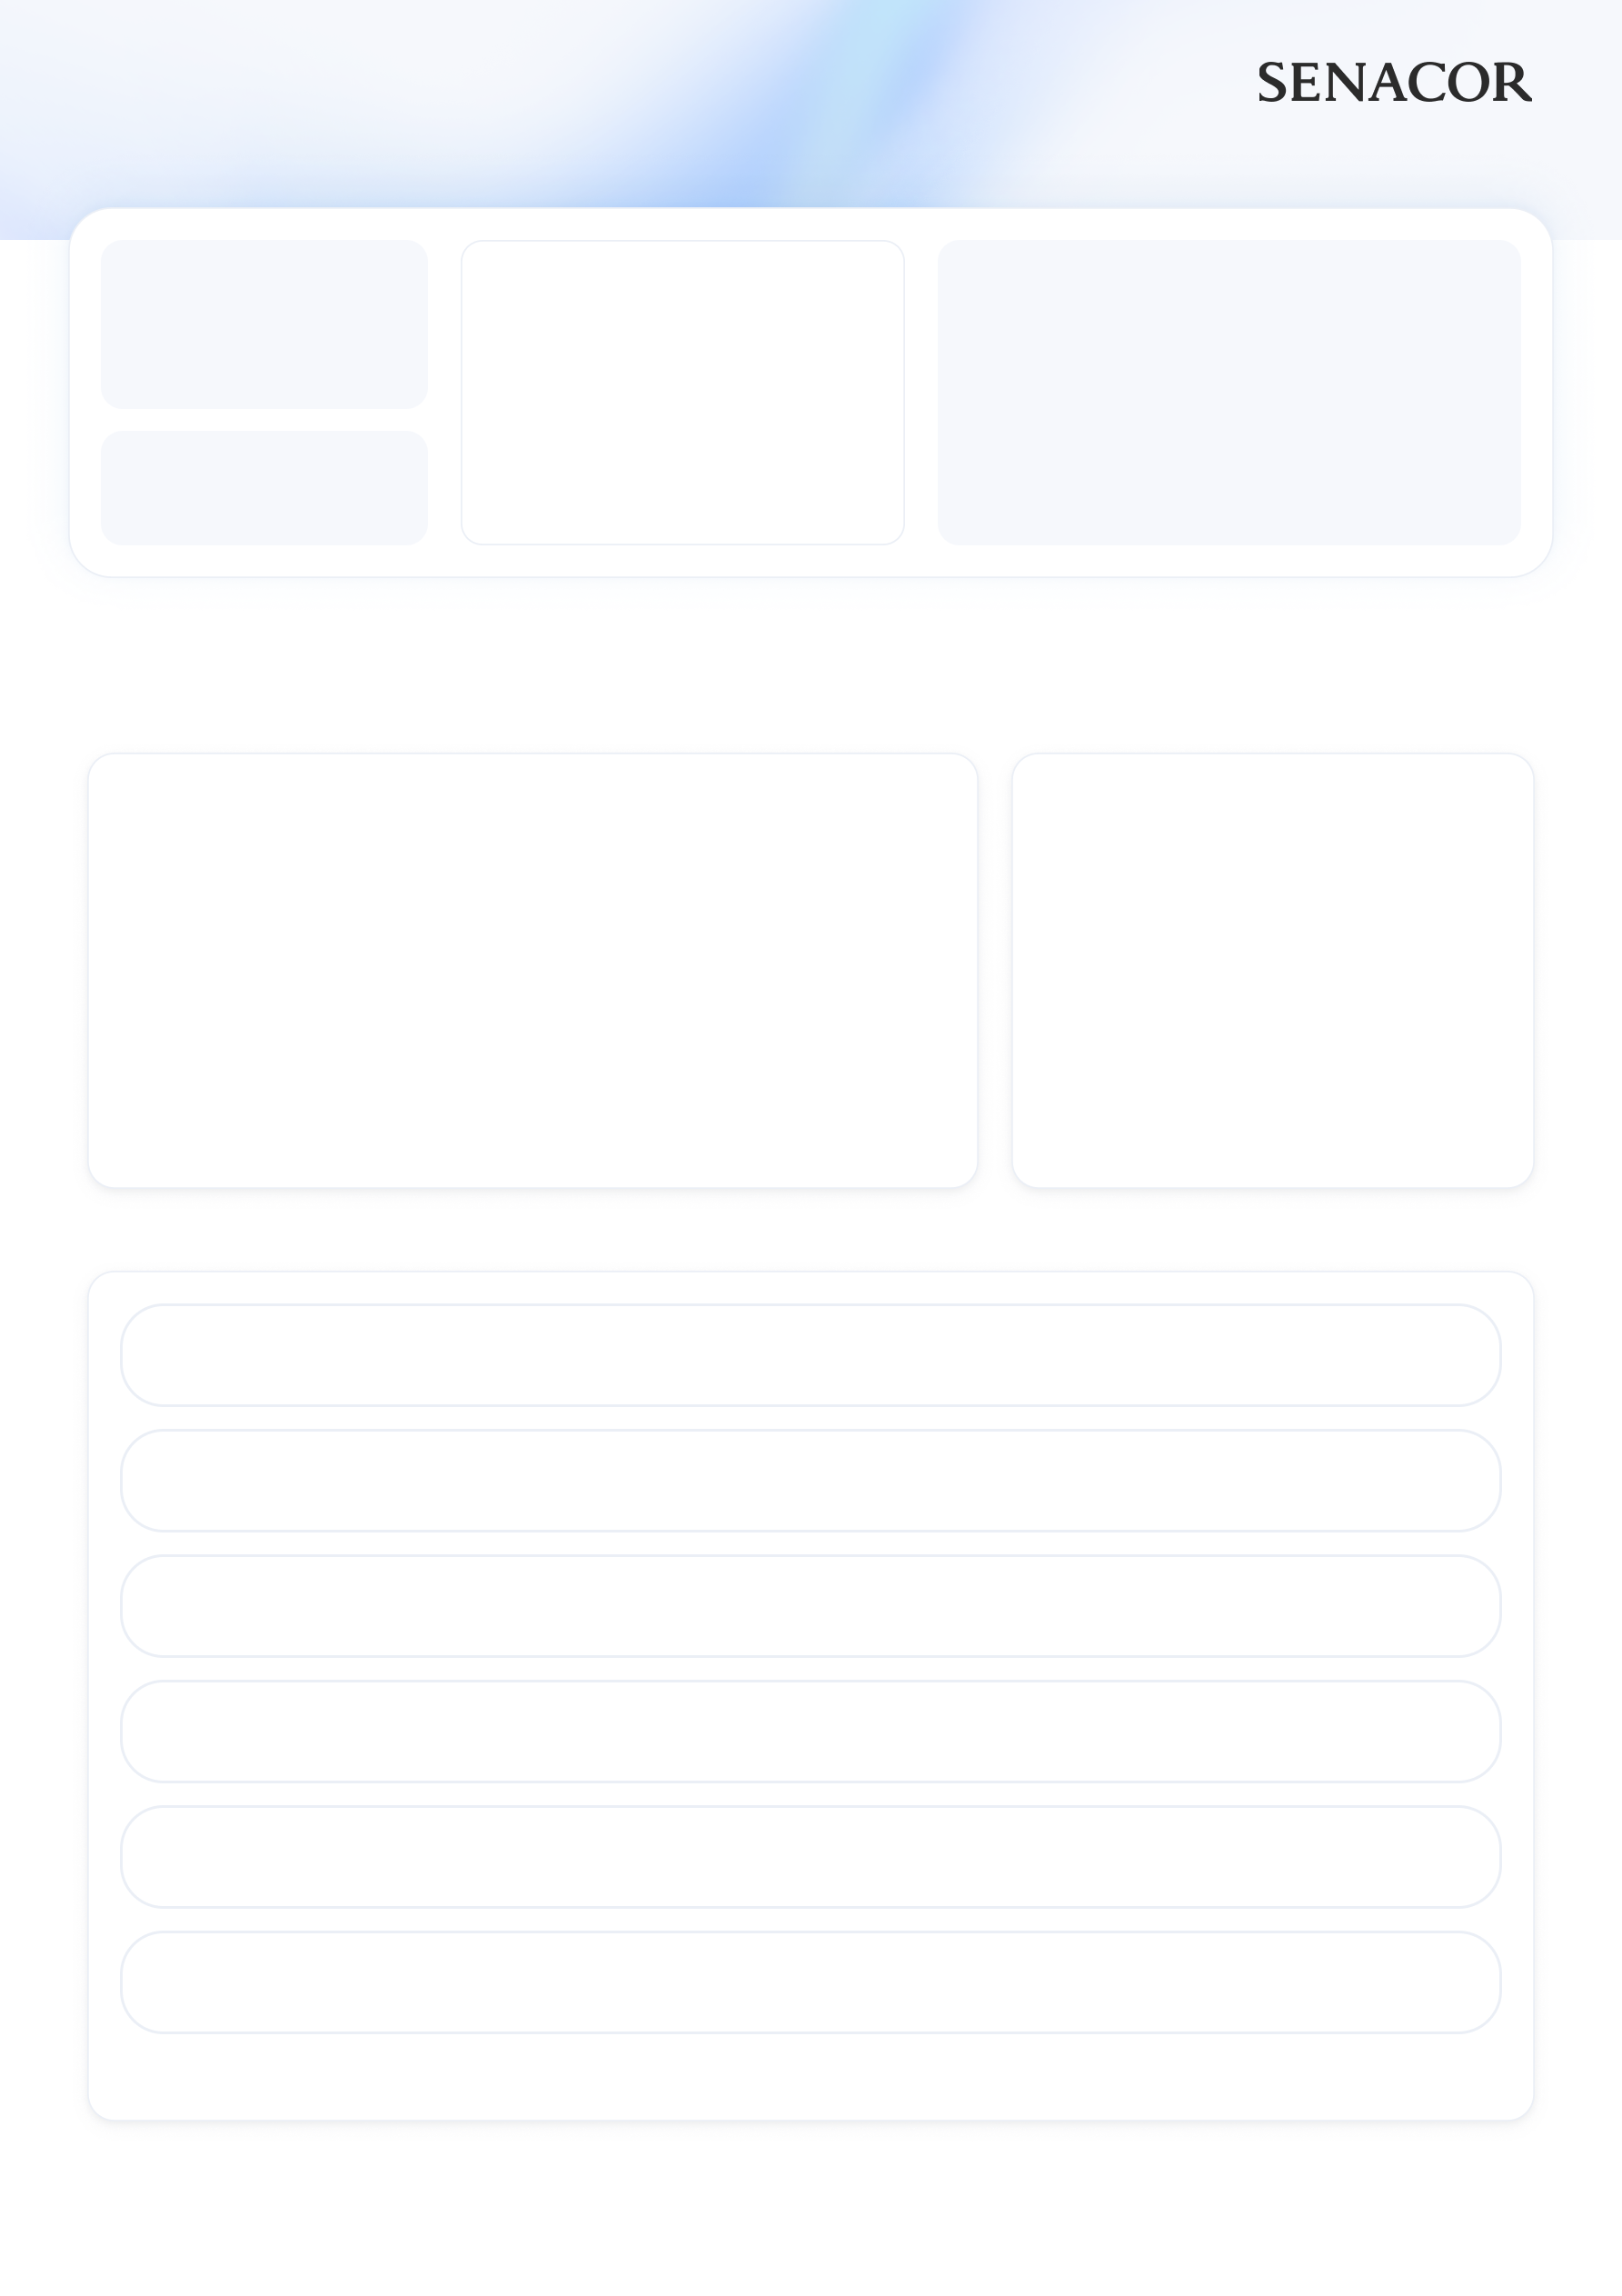

What the dashboard file says about the page in this screenshot:
{"tool":"powerbi","page":{"name":"Seite 1","canvas":[794,1123],"ordinal":0},"visuals":[{"type":"image","box":[0,0,794,126],"z":0},{"type":"shape","box":[20,90,760,228],"z":1000},{"type":"textbox","box":[50,50,500,40],"z":2000},{"type":"shape","box":[20,352,466,240],"z":3000},{"type":"shape","box":[488,352,290,240],"z":4000},{"type":"textbox","box":[50,325,200,34],"z":5000},{"type":"shape","box":[20,626,760,420],"z":6000},{"type":"textbox","box":[30,1050,740,60],"z":7000},{"type":"shape","box":[36,209,194,92],"z":8000},{"type":"shape","box":[466,107,298,194],"z":9000},{"type":"donutChart","fields":{"Category":["issue_counts.level"],"Y":["Sum(issue_counts.issue_count)"]},"box":[488,352,290,240],"z":10000},{"type":"shape","box":[238,105,218,198],"z":11000,"group":"g1"},{"type":"shape","box":[36,107,194,92],"z":11000},{"type":"barChart","fields":{"Category":["categories.Label"],"Y":["Sum(categories.level_aa_issue_counts)","Sum(categories.level_a_issue_counts)"]},"box":[24,626,752,420],"z":12000},{"type":"group","id":"g1","title":"Gruppe 1","box":[238,105,218,198],"z":13000},{"type":"advancedSlicerVisual","fields":{"Values":["report_summary.logo_url"]},"box":[36,107,194,92],"z":14000},{"type":"textbox","box":[337,130.9,103,29.1],"z":16000,"group":"g1"},{"type":"textbox","box":[518,325,200,34],"z":16000},{"type":"textbox","box":[50,599,232,34],"z":17000},{"type":"textbox","box":[282.4,228.9,156.7,47.2],"z":18000,"group":"g1"},{"type":"textbox","box":[20,352,466,240],"z":18000},{"type":"image","box":[590,0,180,70],"z":19000},{"type":"card","fields":{"Values":["Sum(report_summary.elements_with_no_violation_percentage)"]},"box":[294,156,150,70],"z":20000},{"type":"card","title":"Anzahl an gefundenen Fehlern","fields":{"Values":["Min(report_summary.total_issue_count)"]},"box":[593,420,80,80],"z":21000},{"type":"card","title":"Webseite","fields":{"Values":["Min(report_summary.url)"]},"box":[36,209,194,92],"z":22000},{"type":"image","box":[466,107,298,194],"z":23000}]}

Visuals, with their boxes in screenshot pixels (x1, y1, x2, y2), scaled from the page's 794x1123 canvas onto the 1622x2296 screenshot:
image: l=0, t=0, r=1621, b=257
shape: l=41, t=184, r=1594, b=650
textbox: l=102, t=102, r=1123, b=184
shape: l=41, t=720, r=993, b=1211
shape: l=997, t=720, r=1589, b=1211
textbox: l=102, t=664, r=511, b=734
shape: l=41, t=1280, r=1594, b=2139
textbox: l=61, t=2147, r=1573, b=2270
shape: l=74, t=427, r=470, b=615
shape: l=952, t=219, r=1561, b=615
donutChart - issue_counts.level x Sum(issue_counts.issue_count): l=997, t=720, r=1589, b=1211
shape: l=486, t=215, r=931, b=620
shape: l=74, t=219, r=470, b=407
barChart - categories.Label x Sum(categories.level_aa_issue_counts): l=49, t=1280, r=1586, b=2139
"Gruppe 1" group: l=486, t=215, r=931, b=620
advancedSlicerVisual - report_summary.logo_url: l=74, t=219, r=470, b=407
textbox: l=689, t=267, r=899, b=327
textbox: l=1059, t=664, r=1467, b=734
textbox: l=102, t=1224, r=576, b=1294
textbox: l=577, t=468, r=897, b=564
textbox: l=41, t=720, r=993, b=1211
image: l=1205, t=0, r=1573, b=143
card - Sum(report_summary.elements_with_no_violation_percentage): l=601, t=319, r=907, b=462
"Anzahl an gefundenen Fehlern" card: l=1211, t=859, r=1375, b=1023
"Webseite" card: l=74, t=427, r=470, b=615
image: l=952, t=219, r=1561, b=615
